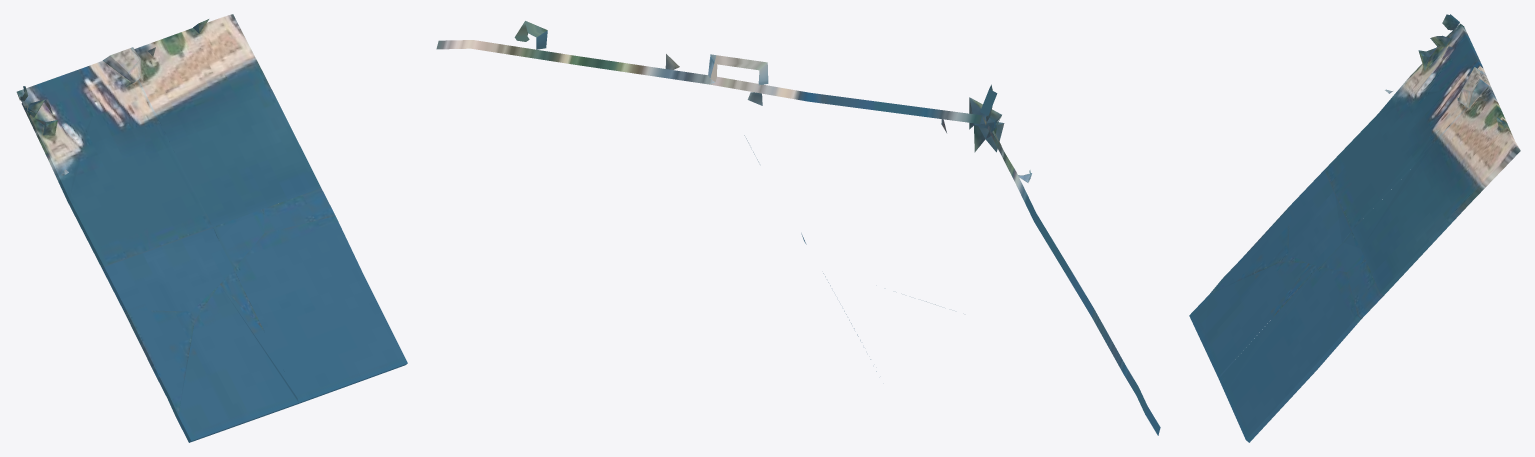
Rendered from AJVsH2xWoPAUINH6K4KjhwiCsEF5iZ5p-5auMwAsVd7EQutmR667y4OVv1I5durI5q5azvz9NMCGqIOjjaqqHjhSFuUQjAtxjVL51Lgcr0r__oYCAFZUJpT8-o6WVW8UFwR8FciBee9F9uyItTCcCmIcCTUmduTwSg.glb.
The picture shows the model from 3 angles, left to right: view 1: azimuth 30°, elevation 25°; view 2: azimuth 150°, elevation 25°; view 3: azimuth 270°, elevation 25°; orthographic projection. The views are drawn at different scales.
Size of the model in its own units: 258 by 237 by 249.
Materials: 1 (1 with a texture image).
